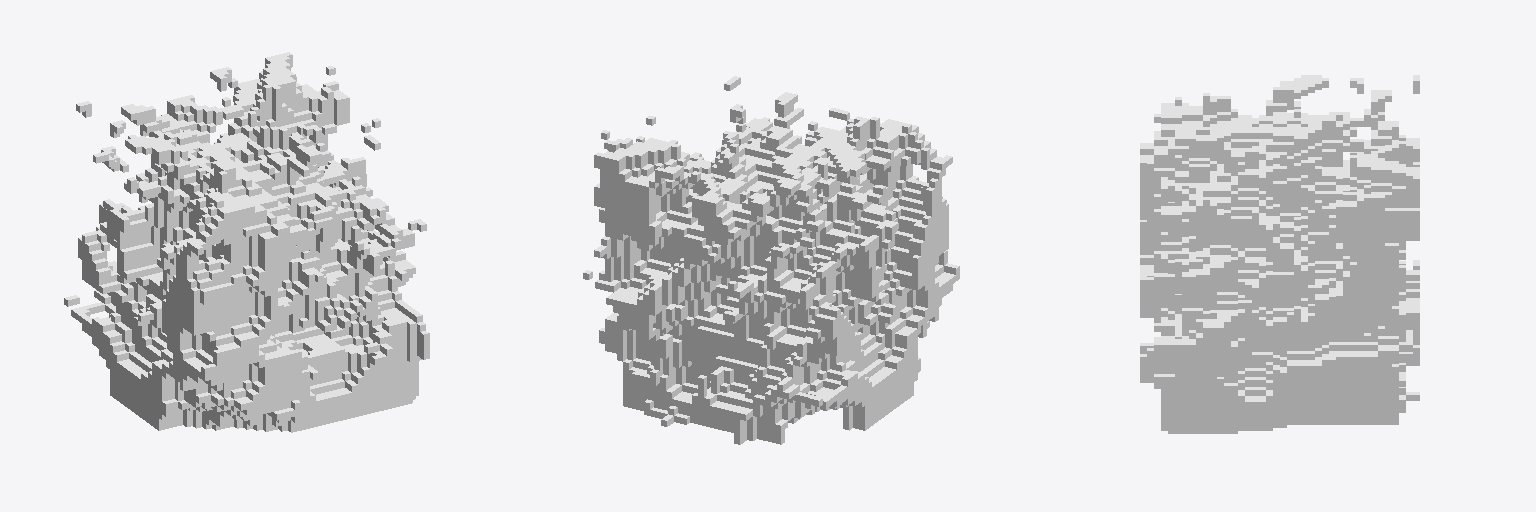
The model's file is Fire1.obj.
3 renders of one model, left to right at view 1: azimuth 30°, elevation 25°; view 2: azimuth 150°, elevation 25°; view 3: azimuth 270°, elevation 25°, orthographic.
Visible parts, largest first — view 1: object 1; view 2: object 1; view 3: object 1.
Part boxes in pixels (bbox=[...]): object 1: bbox=[64, 52, 429, 432]; object 1: bbox=[583, 76, 959, 444]; object 1: bbox=[1140, 75, 1419, 433].
Bounding box in the file's own units: 4 × 4 × 4.